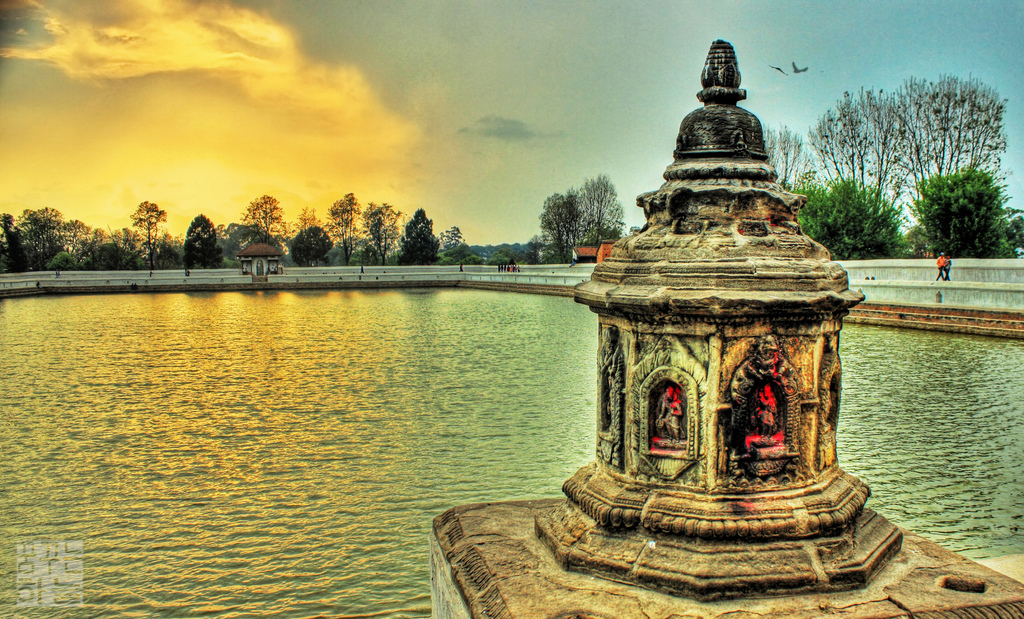Tree: (0, 71, 1023, 272)
